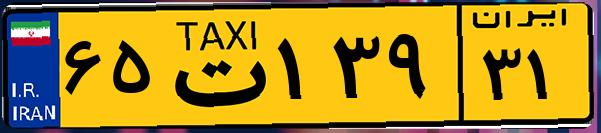1: (270, 28, 330, 110), (525, 38, 570, 115)
3: (330, 28, 385, 110), (475, 38, 525, 113)
5: (110, 28, 158, 98)
6: (57, 26, 110, 100)
9: (385, 28, 445, 110)
ت: (158, 12, 270, 120)
